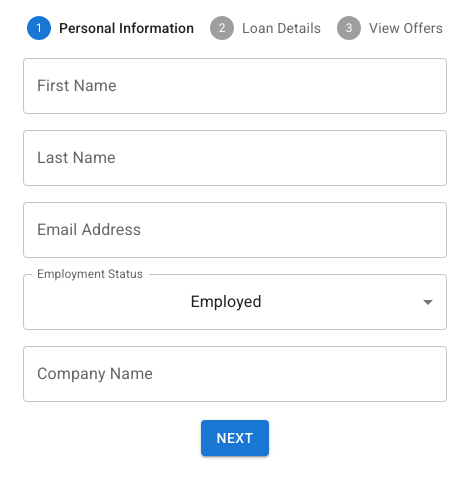
Loan Details › Loan Details Validation › should validate fields when next button is clicked
In the field named "firstName": (235, 86) [23,58,447,114], type "John"
In the field named "lastName": (235, 158) [23,130,447,186], type "Doe"
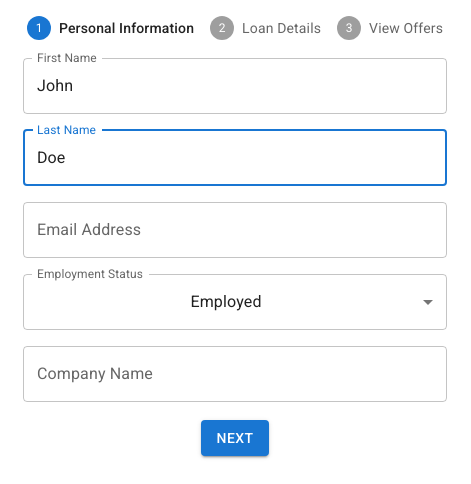
In the field named "emailAddress": (235, 230) [23,202,447,258], type "test@gmail.com"
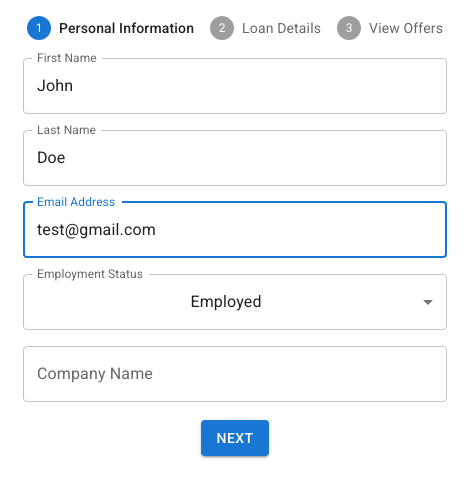
Click the element with test id "employment-status-select": (235, 302) [23,274,447,330]
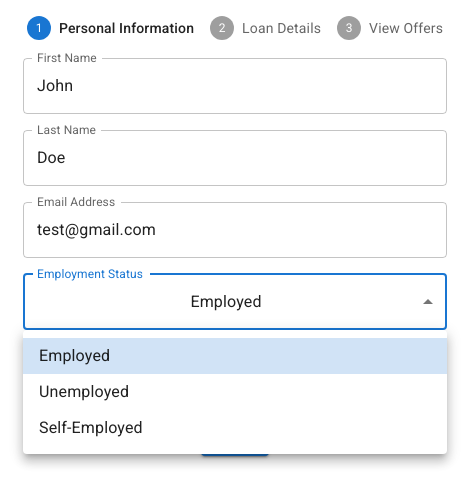
Click the option with test id "employment-status-self-employed": (91, 428) [39,418,143,437]
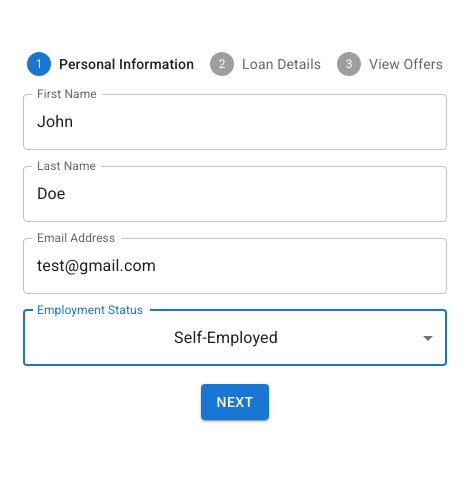
Click the button with test id "next-button": (236, 403) [201,384,270,421]
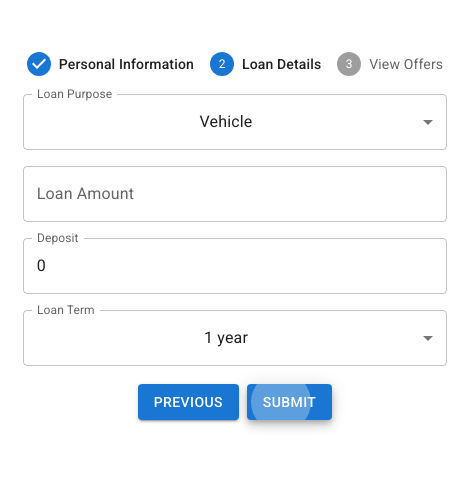
Click the button with test id "next-button": (290, 403) [247,384,332,421]
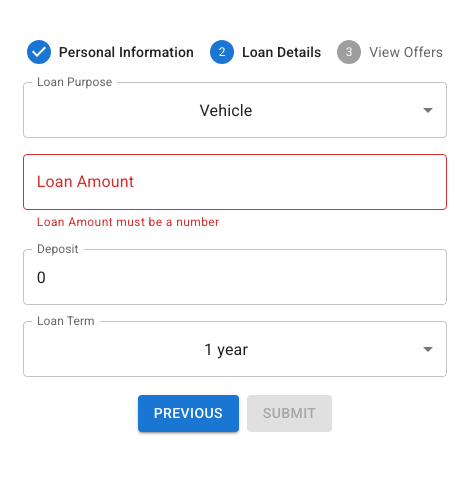
Check: the text "Loan Amount must be a number" is shown, box [37,215,220,229]
